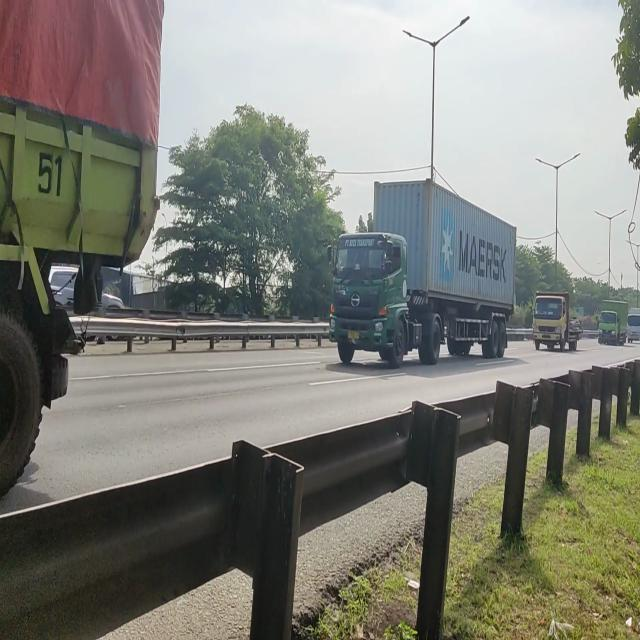Golongan IV: (329, 189, 517, 374)
